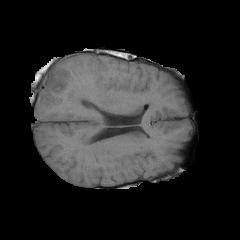glioma: (39, 64, 95, 112)
